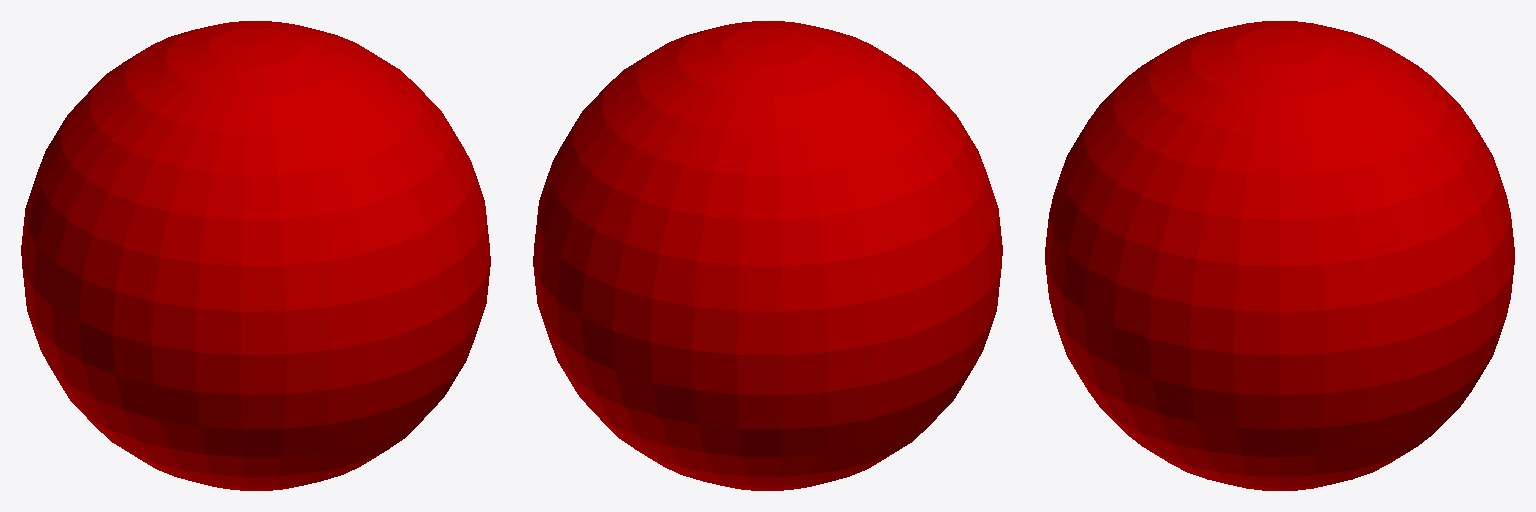
File: ballr.obj
3 views of the same model, side by side, from view 1: azimuth 30°, elevation 25°; view 2: azimuth 150°, elevation 25°; view 3: azimuth 270°, elevation 25° (orthographic).
Parts seen in each view (by area): view 1: Sphere; view 2: Sphere; view 3: Sphere.
Part boxes in pixels (x1,y1,x2,y2): Sphere: (21,21,490,490); Sphere: (533,21,1002,490); Sphere: (1045,21,1514,490).
Bounding box in the file's own units: 1 × 1 × 1.